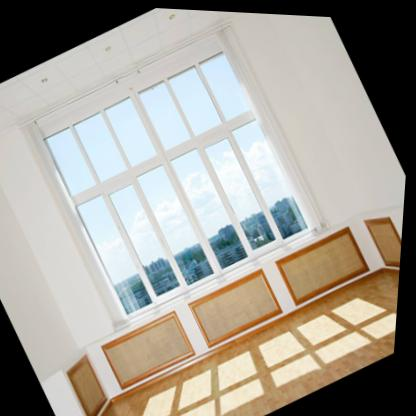Window: (17, 10, 340, 331)
